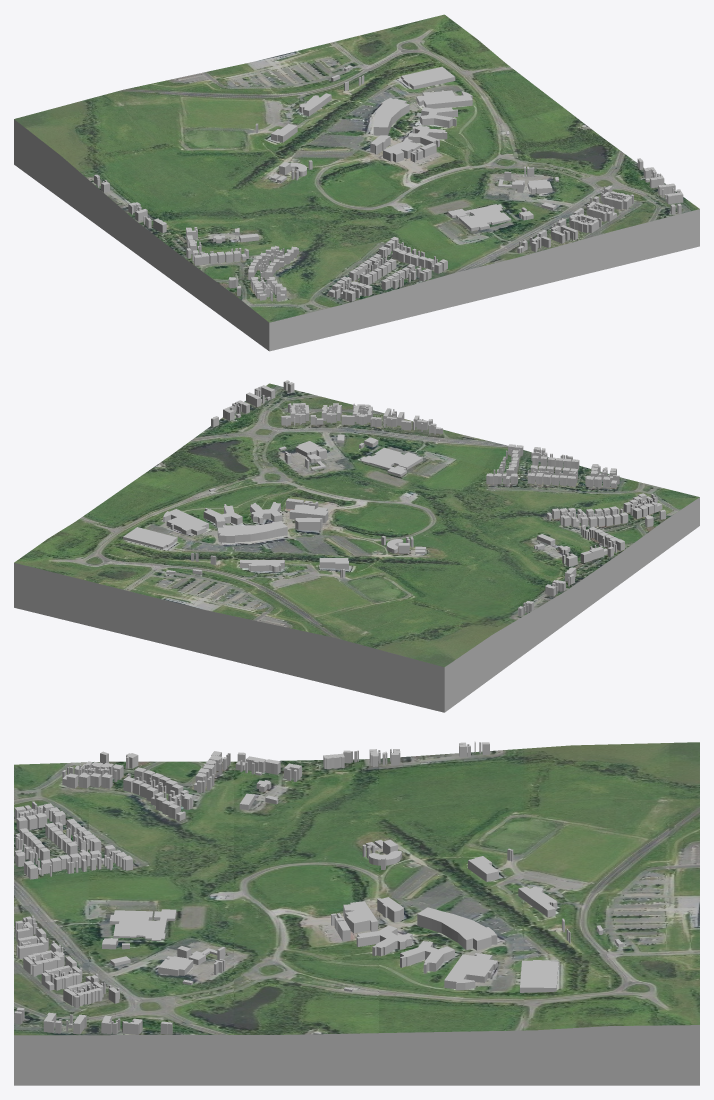
Rendered from maps3d-2025-08-07_07-59-20.obj.
3 renders of one model, top to bottom at view 1: azimuth 30°, elevation 25°; view 2: azimuth 150°, elevation 25°; view 3: azimuth 270°, elevation 25°, orthographic. The views are drawn at different scales.
Parts seen in each view (by area): view 1: object_4, object_8, object_6, object_121, object_60, object_112, object_271, object_132, object_450, object_375; view 2: object_4, object_7, object_6, object_60, object_121, object_112, object_271, object_132; view 3: object_4, object_5, object_60, object_121, object_112, object_271, object_450, object_132, object_375, object_468, object_439, object_124.
Boxes of the visible parts, left/top/right/bottom form: object_4: left=14, top=14, right=699, bottom=322; object_8: left=269, top=209, right=699, bottom=351; object_6: left=14, top=119, right=269, bottom=350; object_121: left=447, top=204, right=511, bottom=231; object_60: left=373, top=97, right=409, bottom=135; object_112: left=416, top=90, right=472, bottom=108; object_271: left=401, top=66, right=455, bottom=89; object_132: left=420, top=107, right=457, bottom=127; object_450: left=408, top=125, right=447, bottom=146; object_375: left=383, top=139, right=420, bottom=162; object_4: left=14, top=383, right=699, bottom=667; object_7: left=14, top=563, right=444, bottom=712; object_6: left=444, top=497, right=699, bottom=712; object_60: left=217, top=521, right=287, bottom=542; object_121: left=360, top=447, right=422, bottom=476; object_112: left=163, top=509, right=208, bottom=535; object_271: left=123, top=527, right=177, bottom=549; object_132: left=203, top=504, right=242, bottom=527; object_4: left=14, top=742, right=699, bottom=1035; object_5: left=14, top=1025, right=699, bottom=1085; object_60: left=417, top=907, right=497, bottom=950; object_121: left=109, top=909, right=176, bottom=940; object_112: left=444, top=953, right=497, bottom=990; object_271: left=520, top=960, right=558, bottom=992; object_450: left=356, top=925, right=412, bottom=956; object_132: left=400, top=941, right=454, bottom=973; object_375: left=343, top=901, right=377, bottom=933; object_468: left=518, top=886, right=557, bottom=917; object_439: left=158, top=956, right=193, bottom=975; object_124: left=468, top=856, right=498, bottom=881.
Size of the model in its own units: 78.4 by 8.83 by 80.53.
